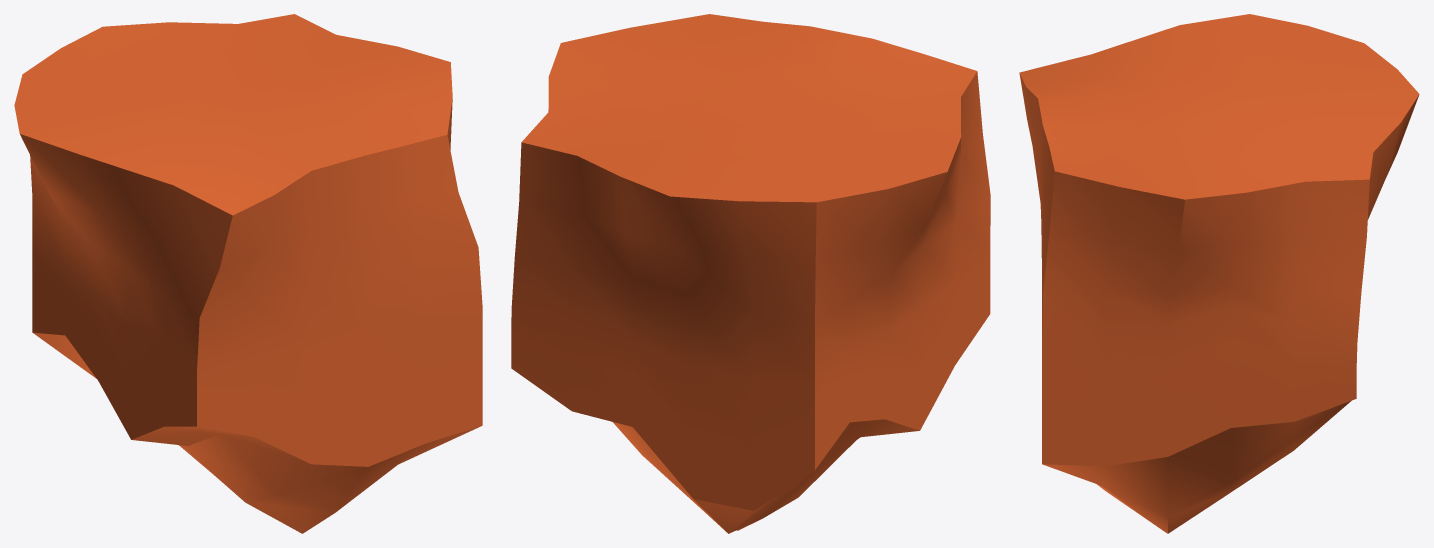
Rendered from rocc3.fbx.
The picture shows the model from 3 angles, left to right: view 1: azimuth 30°, elevation 25°; view 2: azimuth 150°, elevation 25°; view 3: azimuth 270°, elevation 25°; orthographic projection. The views are drawn at different scales.
Visible parts, largest first — view 1: Cube.001; view 2: Cube.001; view 3: Cube.001.
Part boxes in pixels (x1,y1,x2,y2): Cube.001: [14, 14, 482, 533]; Cube.001: [511, 14, 990, 533]; Cube.001: [1019, 14, 1419, 533].
Bounding box in the file's own units: 278 × 286 × 254.
